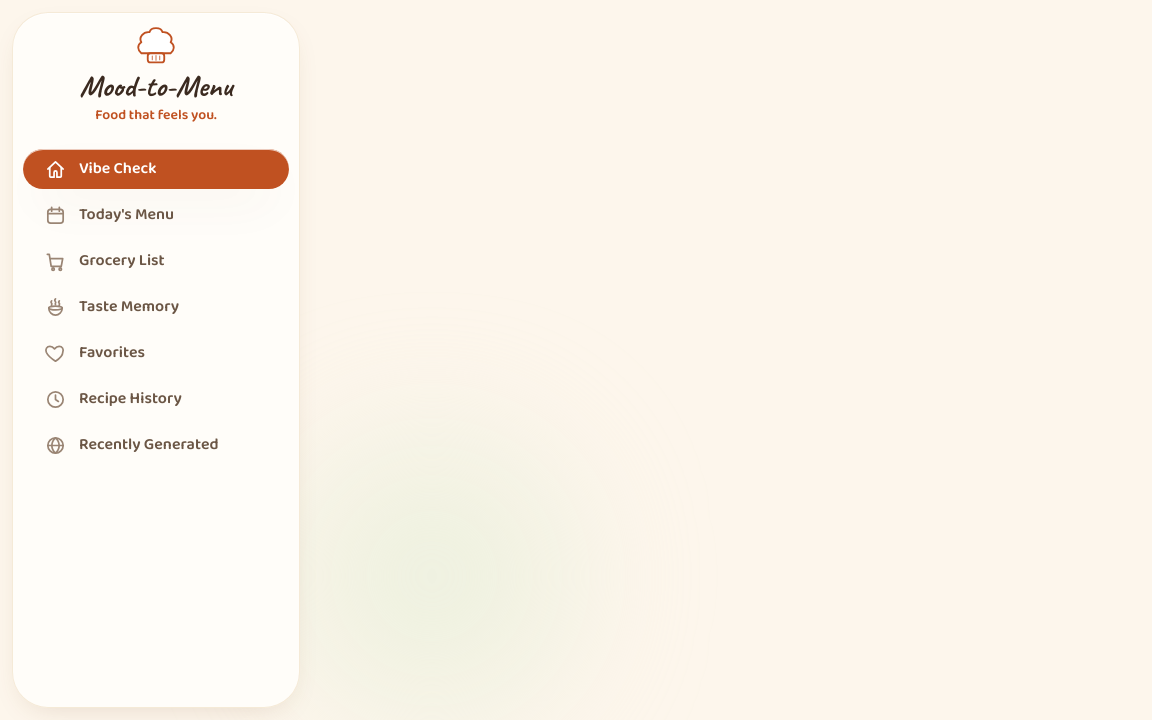
Scenario: AppShell navigation › shows the Today's Menu empty state before any recipe is generated
Click the button "Today's Menu" at x=156, y=215, box [23,195,289,235]
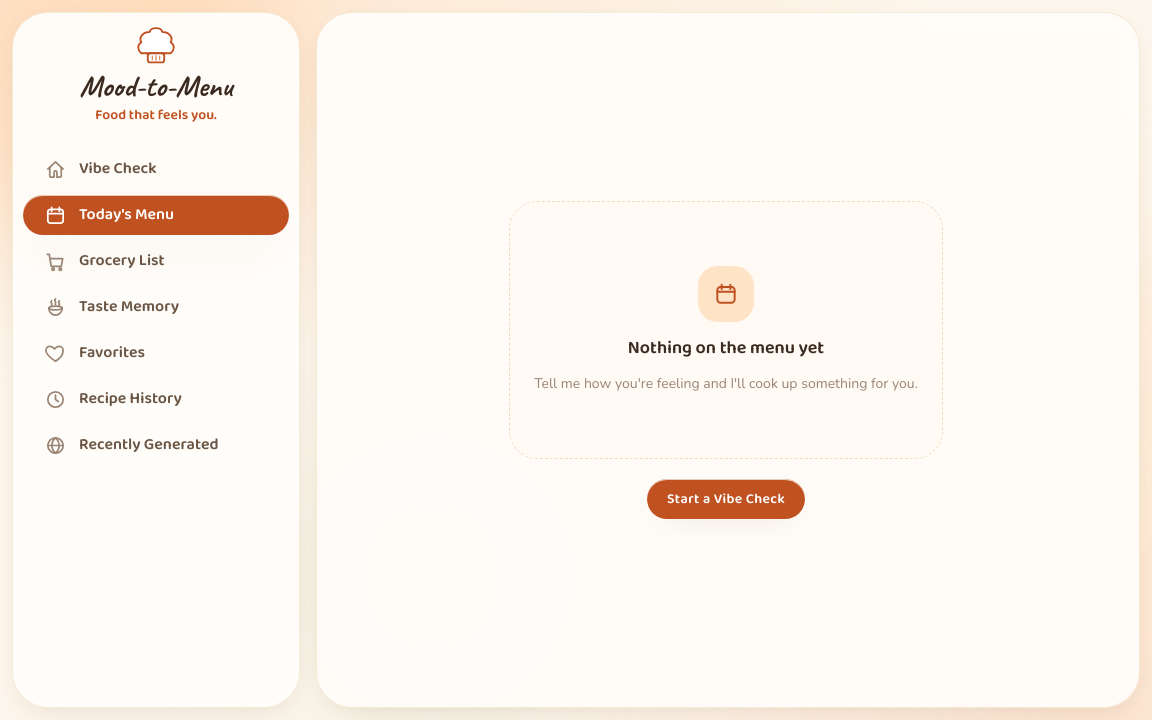
Check: the text "Nothing on the menu yet" is shown, box [628,334,824,362]
